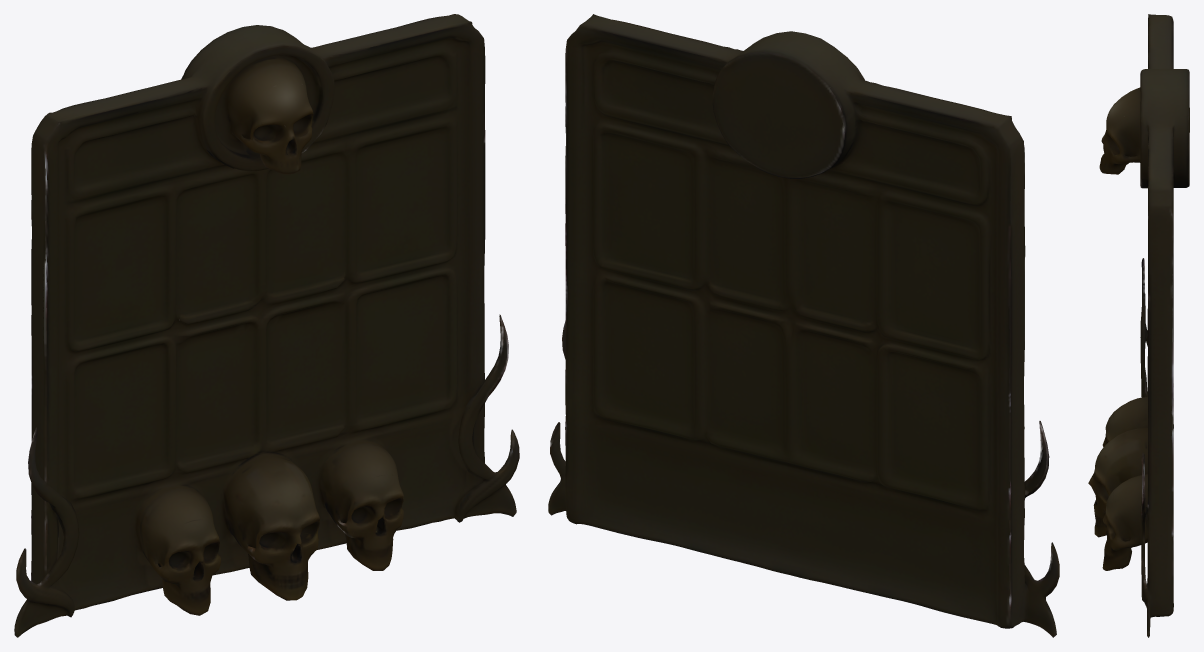
File: base_basic_shaded.fbx
3 views of the same model, side by side, from view 1: azimuth 30°, elevation 25°; view 2: azimuth 150°, elevation 25°; view 3: azimuth 270°, elevation 25° (orthographic). The views are drawn at different scales.
Visible parts, largest first — view 1: model; view 2: model; view 3: model.
Part boxes in pixels (bbox=[...]): model: bbox=[14, 14, 519, 637]; model: bbox=[548, 14, 1059, 637]; model: bbox=[1088, 14, 1189, 637].
Bounding box in the file's own units: 183 × 186 × 37.42.
